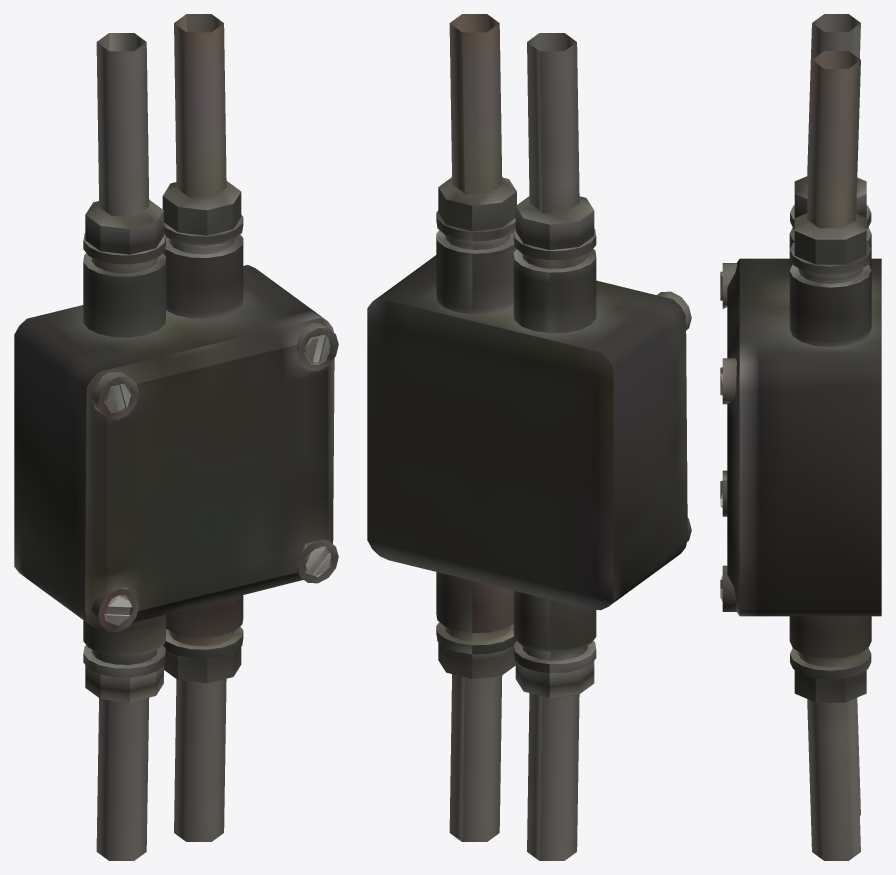
File: wall-junction-box--4.gltf
3 views of the same model, side by side, from view 1: azimuth 30°, elevation 25°; view 2: azimuth 150°, elevation 25°; view 3: azimuth 270°, elevation 25° (orthographic). The views are drawn at different scales.
Visible parts, largest first — view 1: cable_box_double; view 2: cable_box_double; view 3: cable_box_double.
Boxes of the visible parts, x1,y1,x2,y2 form: cable_box_double: (14,14,338,860); cable_box_double: (367,14,691,860); cable_box_double: (720,14,881,860).
Size of the model in its own units: 0.0646 by 0.2 by 0.0368.
1 material, 1 textured.
